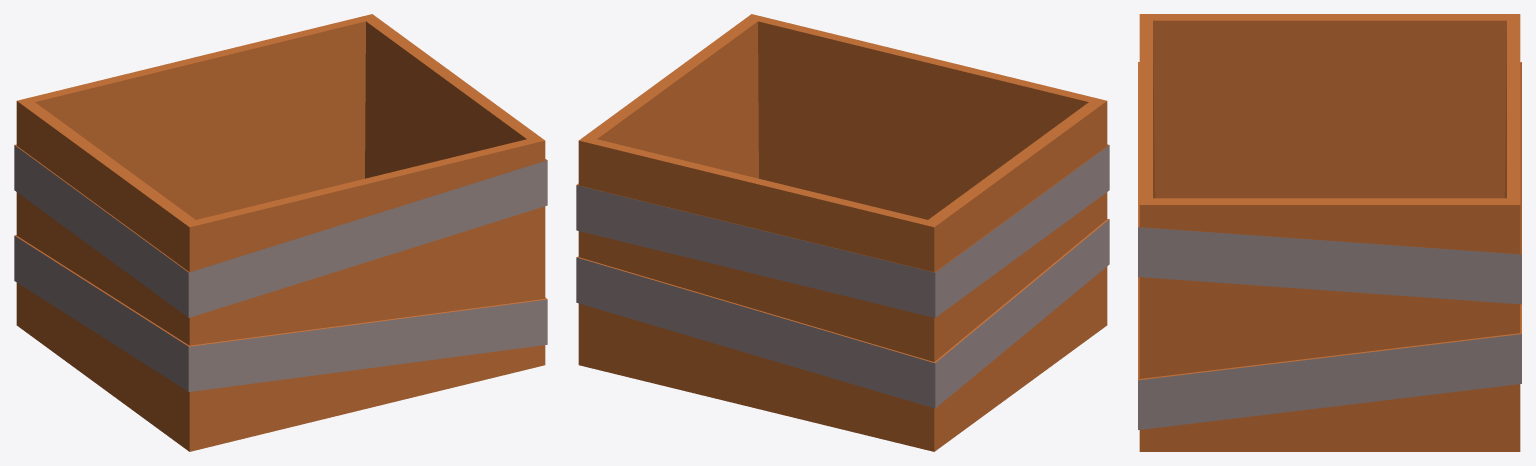
The picture shows the model from 3 angles, left to right: view 1: azimuth 30°, elevation 25°; view 2: azimuth 150°, elevation 25°; view 3: azimuth 270°, elevation 25°; orthographic projection. The views are drawn at different scales.
Parts seen in each view (by area): view 1: Box Open; view 2: Box Open; view 3: Box Open.
Boxes of the visible parts, box(x1,y1,x2,y2) form: Box Open: box(14, 14, 547, 451); Box Open: box(576, 14, 1109, 451); Box Open: box(1138, 14, 1521, 451).
Bounding box in the file's own units: 477 × 285 × 401.
